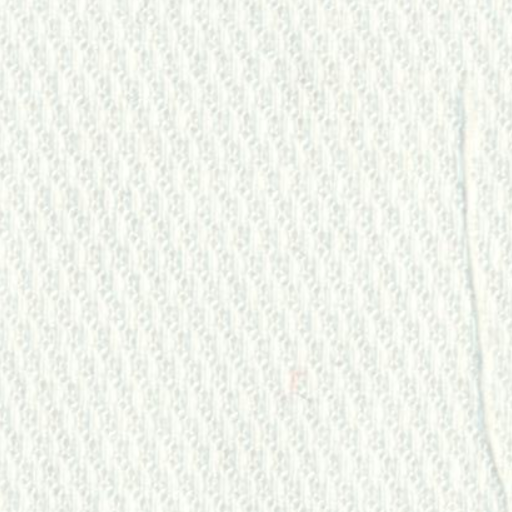DuanSha: (444, 34, 508, 498)
